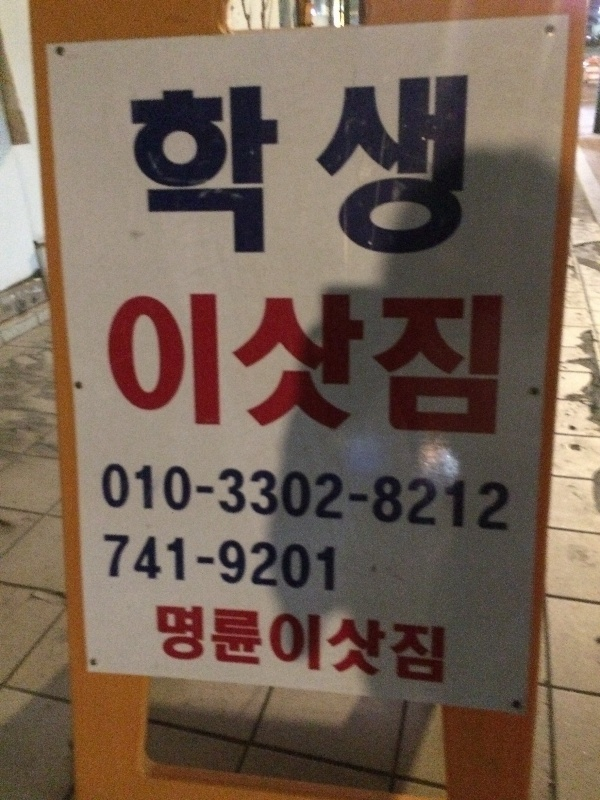text: (129, 67, 144, 261), (145, 67, 160, 261), (161, 67, 176, 261), (177, 67, 192, 261), (193, 67, 208, 261), (209, 67, 224, 261), (225, 67, 240, 261), (241, 67, 256, 261), (257, 67, 272, 261), (273, 67, 288, 261), (289, 67, 304, 261), (305, 67, 320, 261), (321, 67, 336, 261), (337, 67, 352, 261), (353, 67, 368, 261), (369, 67, 384, 261), (385, 67, 400, 261), (401, 67, 416, 261), (417, 67, 432, 261), (433, 67, 448, 261), (449, 67, 464, 261), (113, 286, 128, 442), (129, 286, 144, 442), (145, 286, 160, 442), (161, 286, 176, 442), (177, 286, 192, 442), (193, 286, 208, 442), (209, 286, 224, 442), (225, 286, 240, 442), (241, 286, 256, 442), (257, 286, 272, 442), (273, 286, 288, 442), (289, 286, 304, 442), (305, 286, 320, 442), (321, 286, 336, 442), (337, 286, 352, 442), (353, 286, 368, 442), (369, 286, 384, 442), (385, 286, 400, 442), (401, 286, 416, 442), (417, 286, 432, 442), (433, 286, 448, 442), (449, 286, 464, 442), (465, 286, 480, 442), (481, 286, 496, 442), (465, 67, 473, 261), (497, 286, 506, 442), (497, 461, 513, 541), (161, 602, 176, 687), (177, 602, 192, 687), (193, 602, 208, 687), (209, 602, 224, 687), (225, 602, 240, 687), (241, 602, 256, 687), (257, 602, 272, 687), (273, 602, 288, 687), (289, 602, 304, 687), (305, 602, 320, 687), (321, 602, 336, 687), (337, 602, 352, 687), (353, 602, 368, 687), (369, 602, 384, 687), (385, 602, 400, 687), (401, 602, 416, 687), (417, 602, 432, 687), (113, 461, 128, 541), (129, 461, 144, 541), (145, 461, 160, 541), (161, 461, 176, 541), (177, 461, 192, 541), (193, 461, 208, 541), (209, 461, 224, 541), (225, 461, 240, 541), (241, 461, 256, 541), (257, 461, 272, 541), (273, 461, 288, 541), (289, 461, 304, 541), (305, 461, 320, 541), (321, 461, 336, 541), (337, 461, 352, 541), (353, 461, 368, 541), (369, 461, 384, 541), (385, 461, 400, 541), (401, 461, 416, 541), (417, 461, 432, 541), (433, 461, 448, 541), (449, 461, 464, 541), (465, 461, 480, 541), (481, 461, 496, 541), (433, 602, 446, 687), (105, 286, 112, 442), (113, 532, 128, 595), (129, 532, 144, 595), (145, 532, 160, 595), (161, 532, 176, 595), (177, 532, 192, 595), (193, 532, 208, 595), (209, 532, 224, 595), (225, 532, 240, 595), (241, 532, 256, 595), (257, 532, 272, 595), (273, 532, 288, 595), (289, 532, 304, 595), (305, 532, 320, 595), (321, 532, 336, 595), (101, 461, 112, 541), (103, 532, 112, 595), (156, 602, 160, 687), (337, 532, 338, 595)
